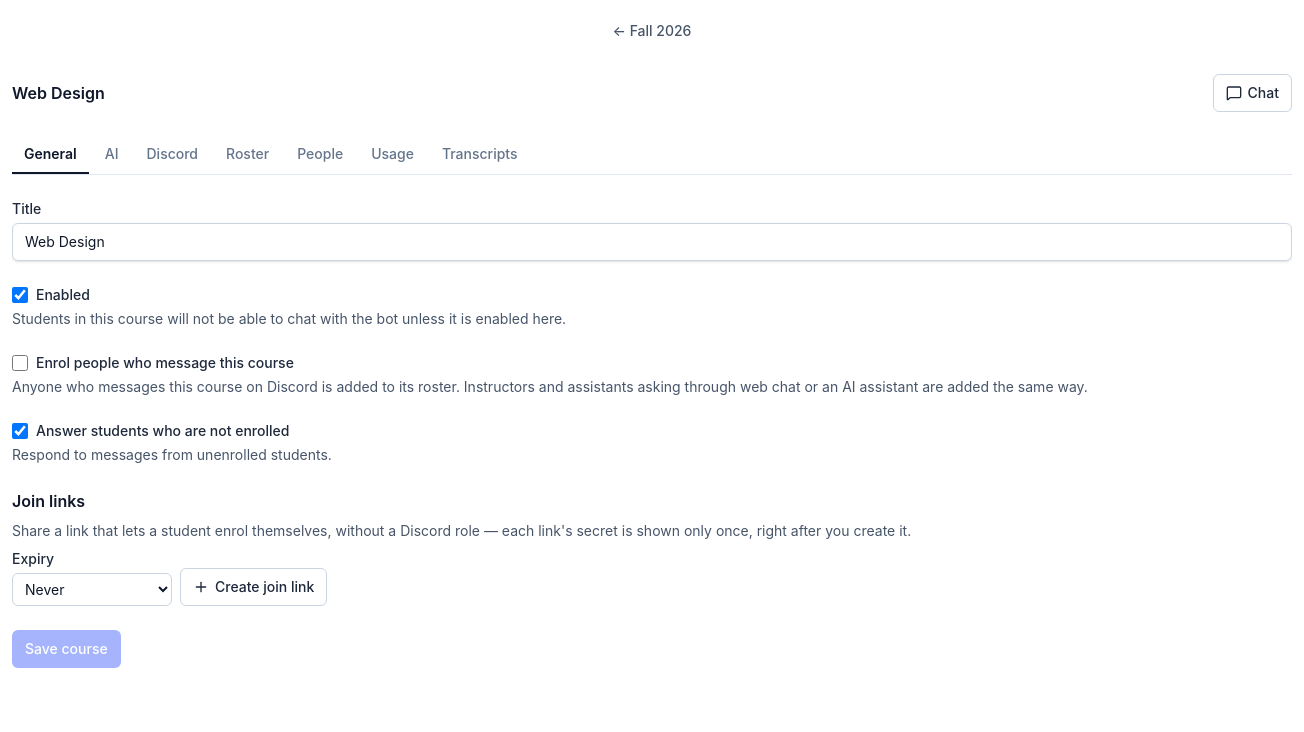
CourseEditor Save button reflects dirtiness (WEB-43) › clears Saved immediately if the form is edited again before the timer elapses
Step 1. Replace the text in the field labelled "Title" with "Web Design II" → coordinates (652, 242), box [12,223,1292,261]
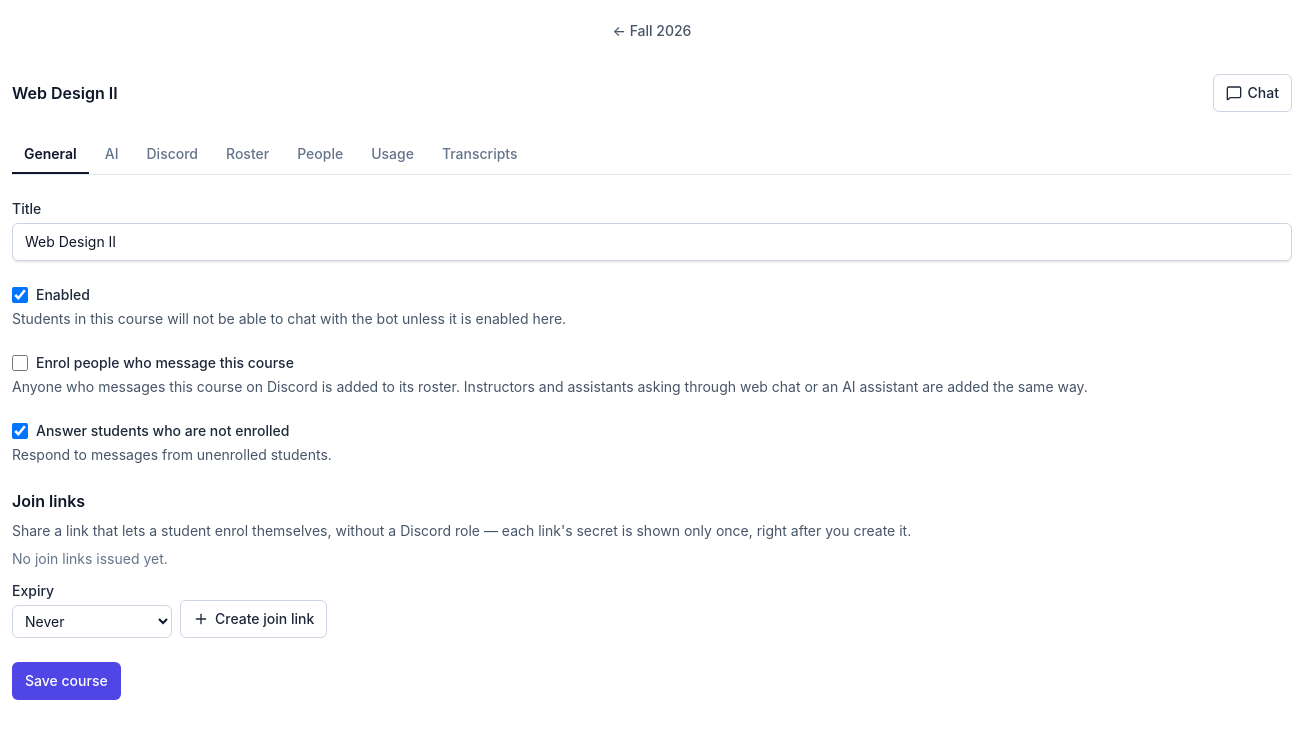
Step 2. Click the button "Save course" → coordinates (66, 681), box [12,662,121,700]
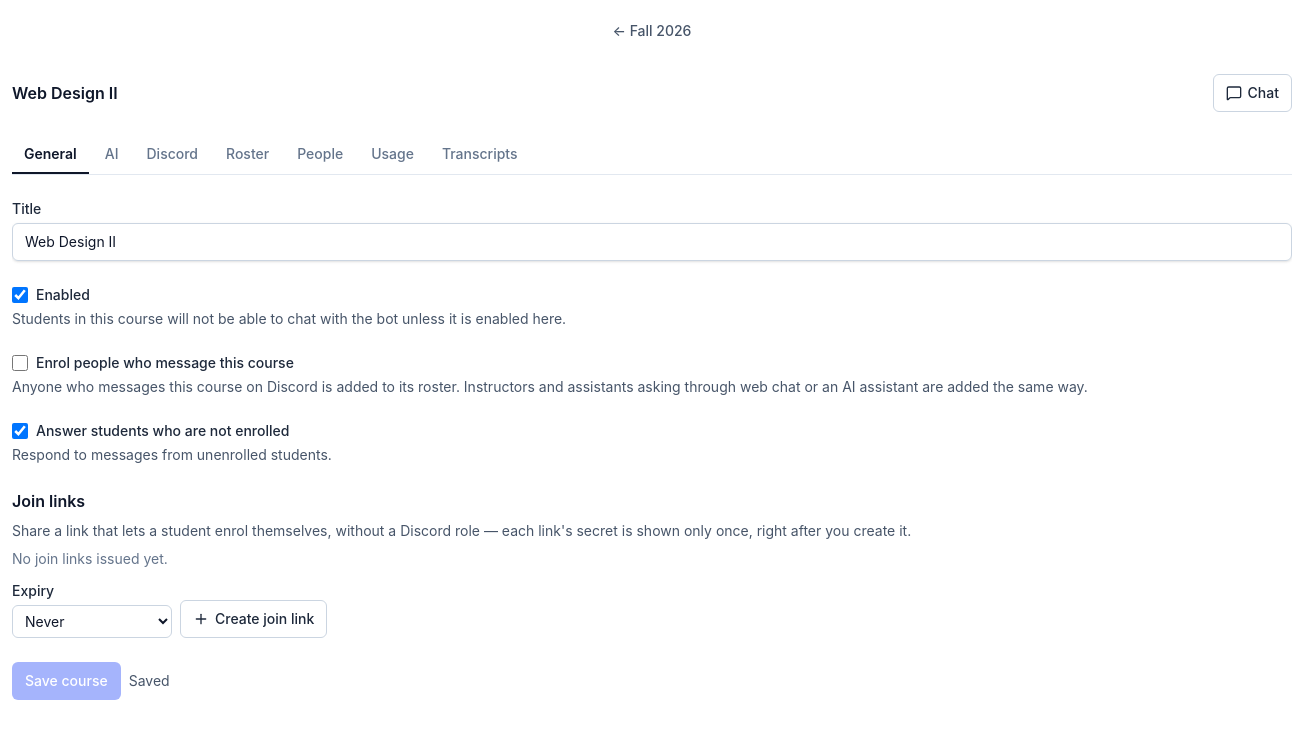
Expected: the message reads "Saved", [129,672,170,689]
Step 3. Replace the text in the field labelled "Title" with "Web Design III" → coordinates (652, 242), box [12,223,1292,261]
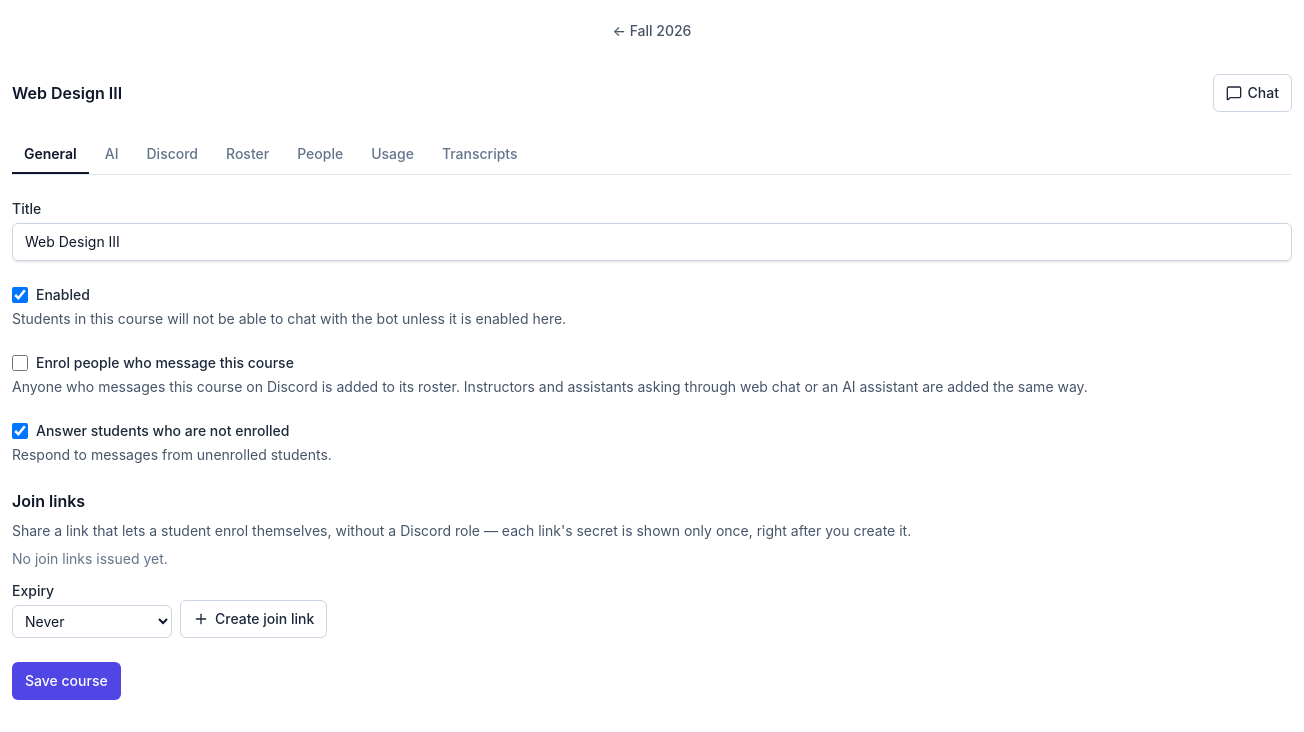
Expected: the button "Save course" is enabled, [12,662,121,700]
